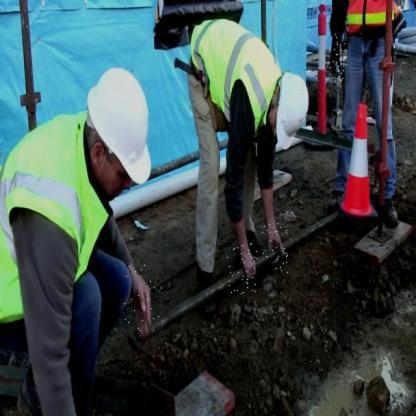bota: (194, 257, 217, 306), (378, 192, 398, 228), (324, 182, 344, 214)
capacete: (85, 68, 152, 200), (268, 74, 308, 152)
